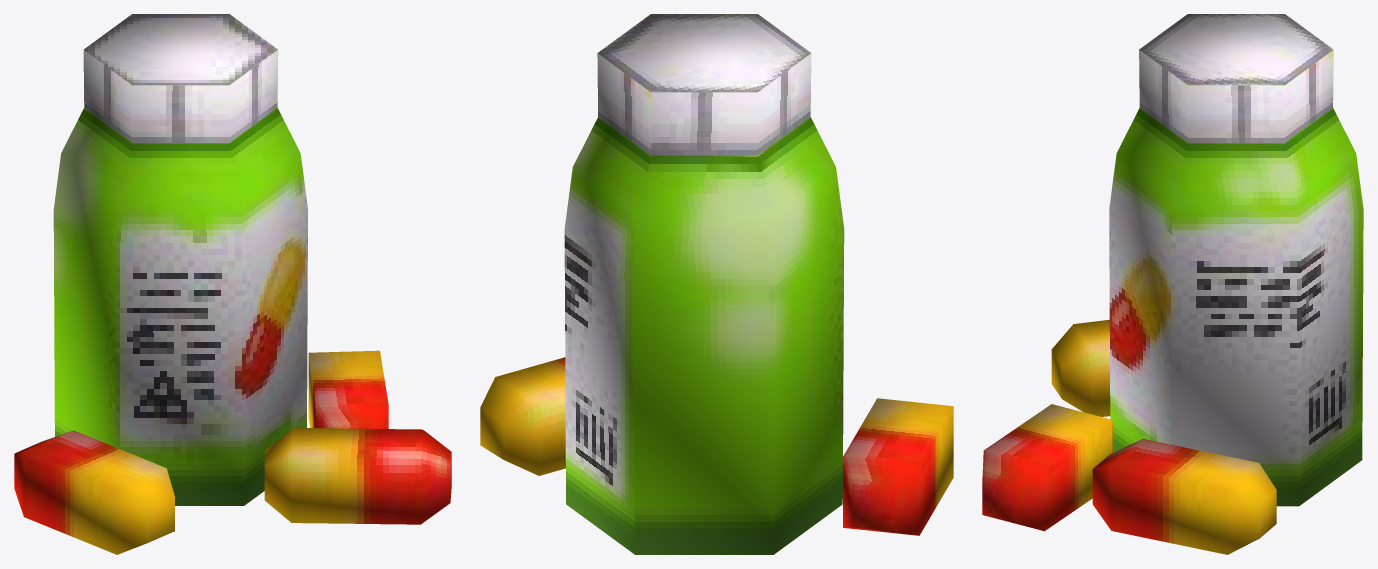
Rendered from Pills.glb.
3 renders of one model, left to right at view 1: azimuth 30°, elevation 25°; view 2: azimuth 150°, elevation 25°; view 3: azimuth 270°, elevation 25°, orthographic. The views are drawn at different scales.
Visible parts, largest first — view 1: Pills; view 2: Pills; view 3: Pills.
Part boxes in pixels (x1,y1,x2,y2): Pills: (14, 14, 451, 554); Pills: (480, 14, 953, 554); Pills: (982, 14, 1363, 554).
Size of the model in its own units: 0.4121 by 0.4356 by 0.3666.
1 material, 1 textured.
